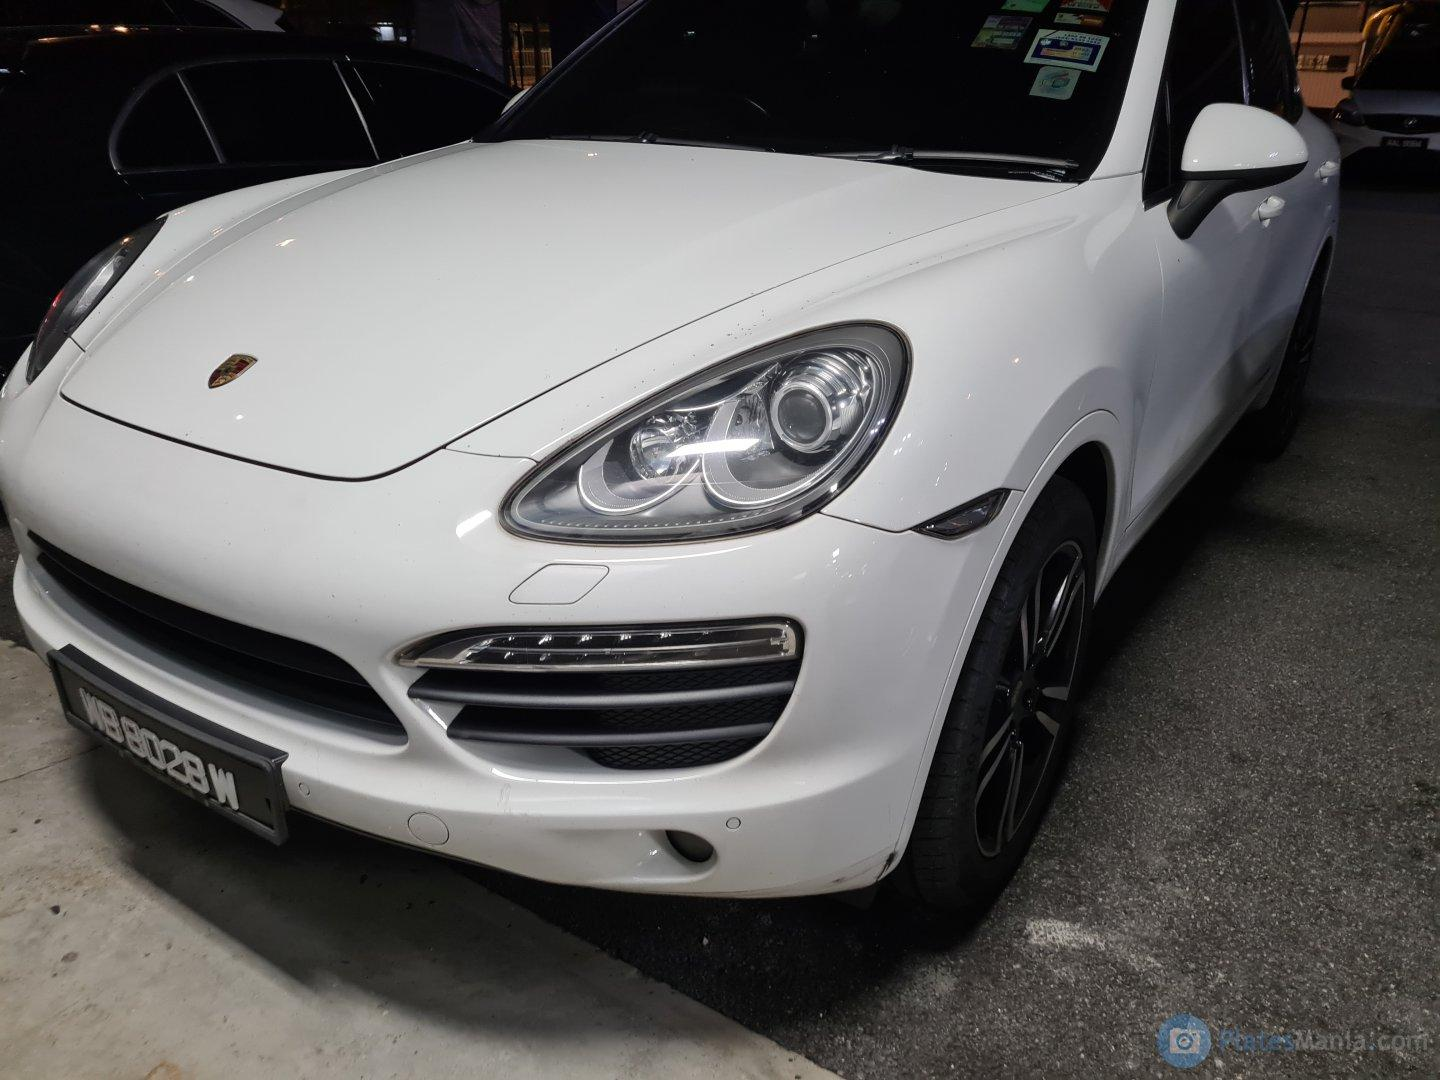License Plate: (48, 657, 281, 846)
